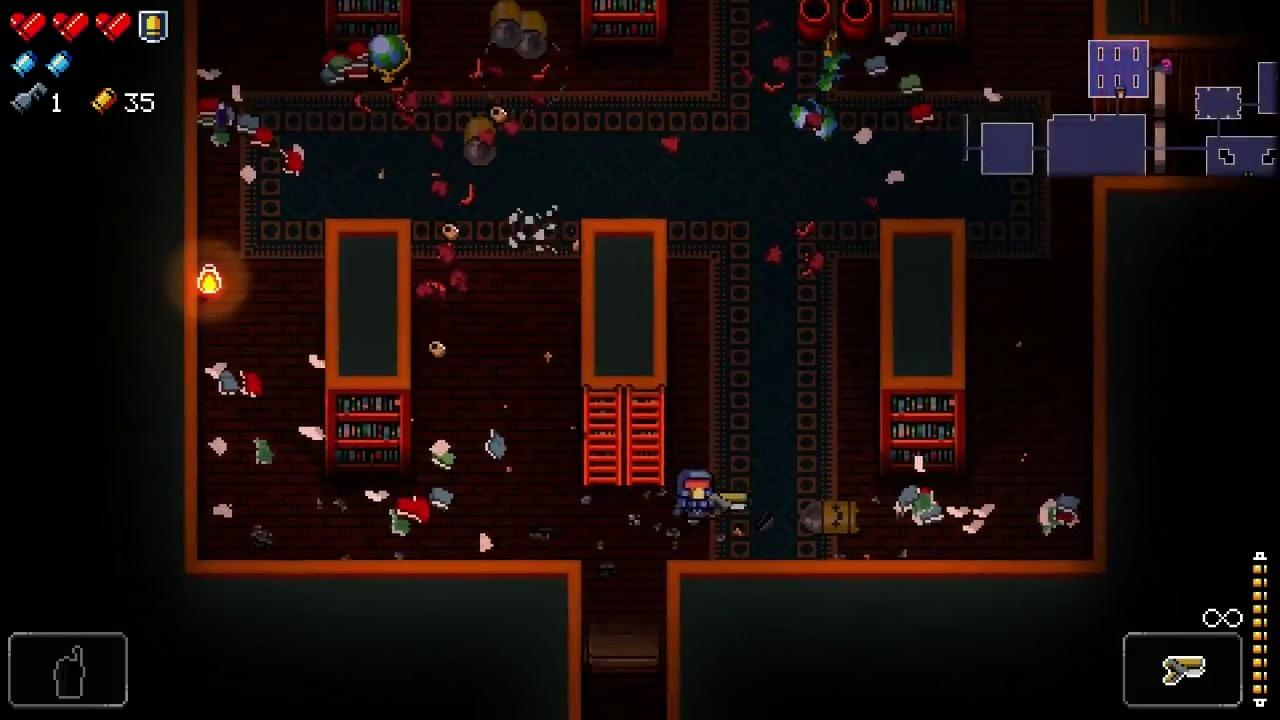dead_bullet_kin: (800, 500, 858, 535), (465, 116, 497, 168), (514, 10, 547, 59), (489, 0, 521, 50)
player: (678, 470, 712, 522)
